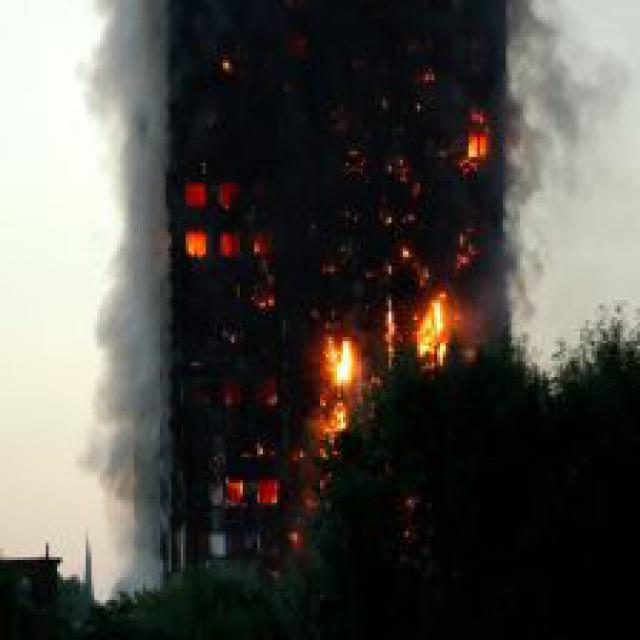fire: (317, 326, 369, 443), (411, 292, 460, 372)
